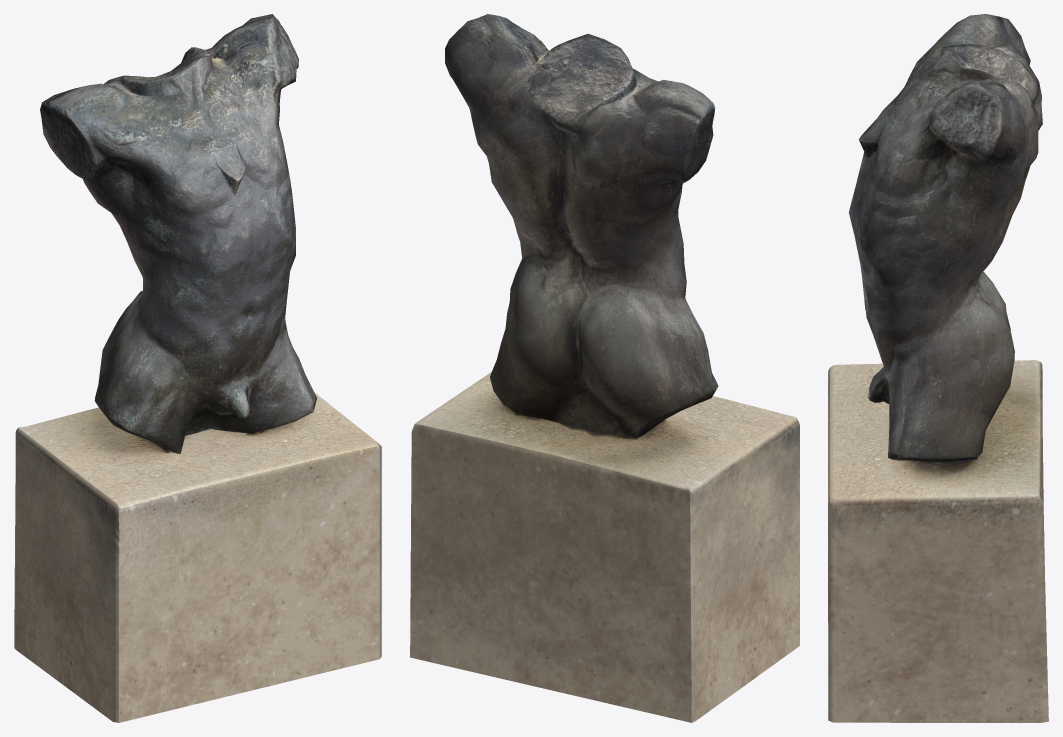
Rendered from GrandTorse.glb.
The picture shows the model from 3 angles, left to right: view 1: azimuth 30°, elevation 25°; view 2: azimuth 150°, elevation 25°; view 3: azimuth 270°, elevation 25°; orthographic projection. The views are drawn at different scales.
Visible parts, largest first — view 1: GrandTorse; view 2: GrandTorse; view 3: GrandTorse.
Boxes of the visible parts, <box> form: GrandTorse: <box>14,14,381,722</box>; GrandTorse: <box>410,14,799,722</box>; GrandTorse: <box>828,14,1048,722</box>.
Bounding box in the file's own units: 0.7786 × 1.65 × 0.5332.
Materials: 1 (1 with a texture image).
